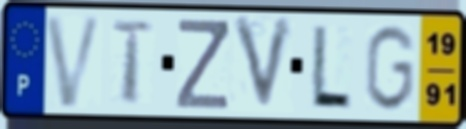G: (362, 22, 419, 114)
L: (307, 22, 355, 112)
T: (108, 18, 157, 107)
V: (229, 15, 298, 117), (41, 13, 107, 111)
Z: (174, 16, 231, 112)
